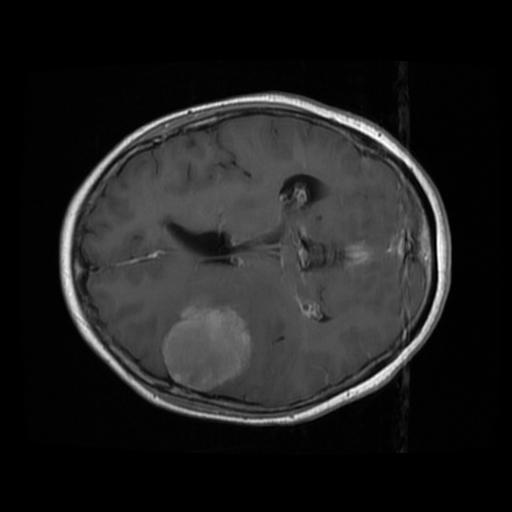meningioma: (159, 304, 250, 391)
